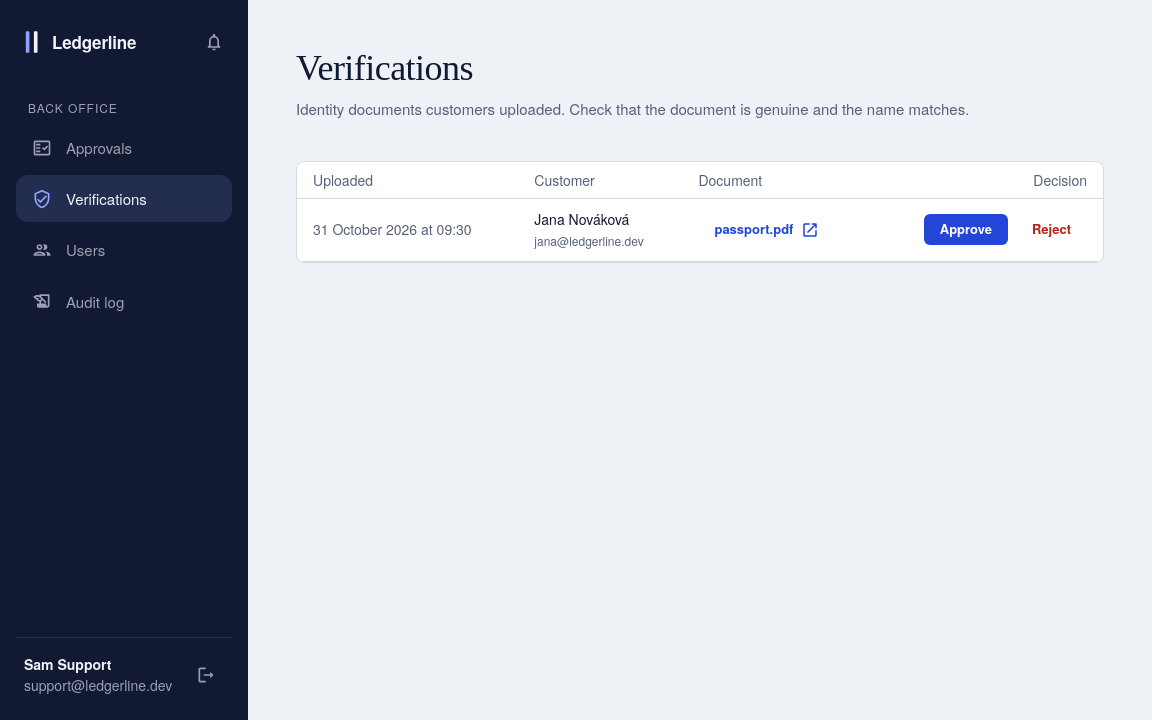
Test: Verifications › opens the document and approves the customer
This screenshot has width=1152, height=720.
Click the button with aria-label "Approve Jana Nováková": (966, 230) top-left (924, 214), bottom-right (1008, 245)
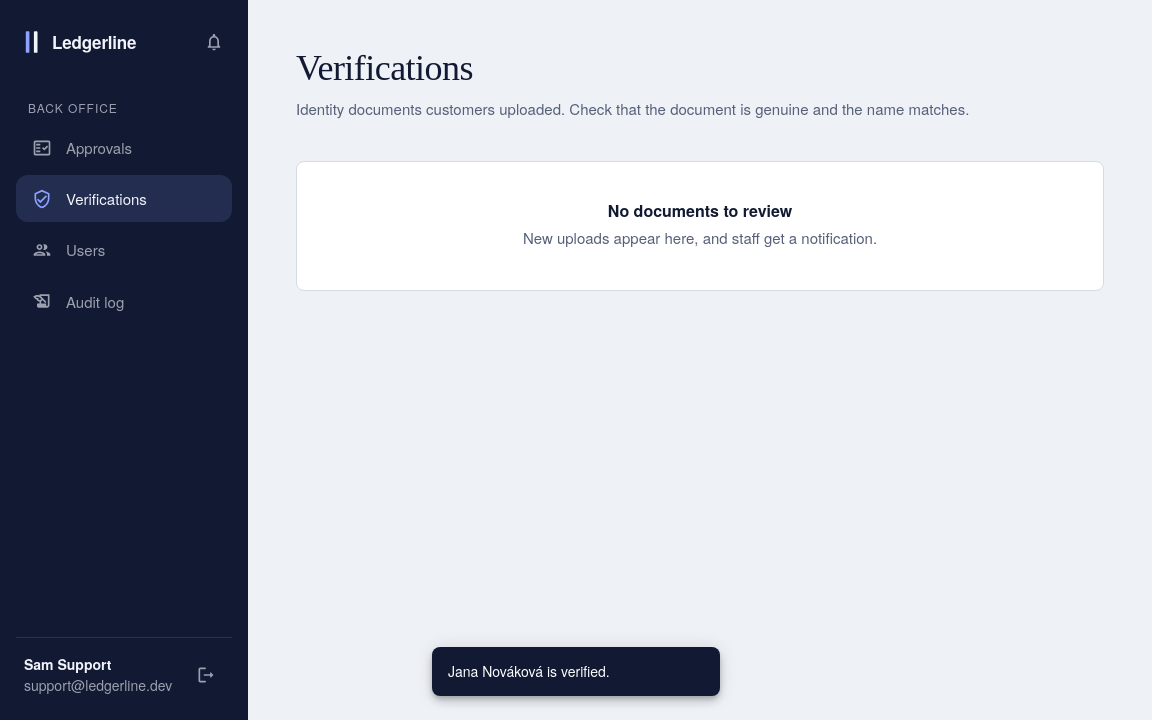
Expected: the text "Jana Nováková is verified." is shown, top-left (448, 661), bottom-right (610, 681)
Expected: the text "No documents to review" is shown, top-left (608, 199), bottom-right (792, 222)
